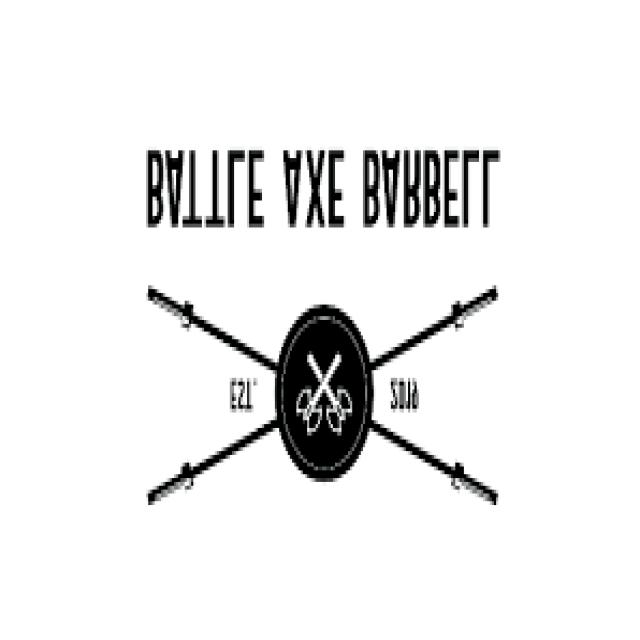Gun: (294, 346, 344, 439), (308, 341, 356, 436)
